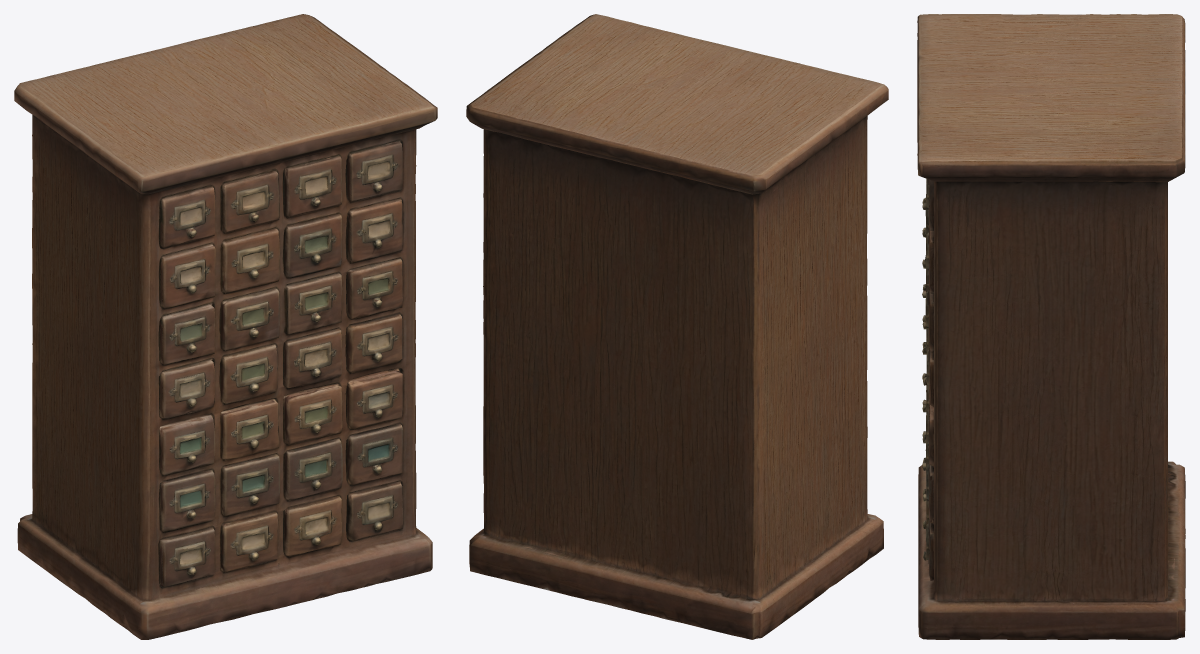
The model's file is Furn_CardCatalogue.fbx.
The picture shows the model from 3 angles, left to right: view 1: azimuth 30°, elevation 25°; view 2: azimuth 150°, elevation 25°; view 3: azimuth 270°, elevation 25°; orthographic projection. The views are drawn at different scales.
Parts seen in each view (by area): view 1: texture_mapping; view 2: texture_mapping; view 3: texture_mapping.
Part boxes in pixels (x1,y1,x2,y2): texture_mapping: (14,14,437,639); texture_mapping: (466,14,888,639); texture_mapping: (917,14,1185,639).
Bounding box in the file's own units: 0.6668 × 0.4989 × 0.9849.
Materials: 1 (1 with a texture image).
